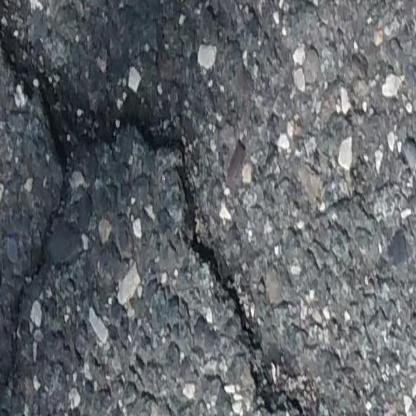Cracks: (0, 24, 323, 416)
